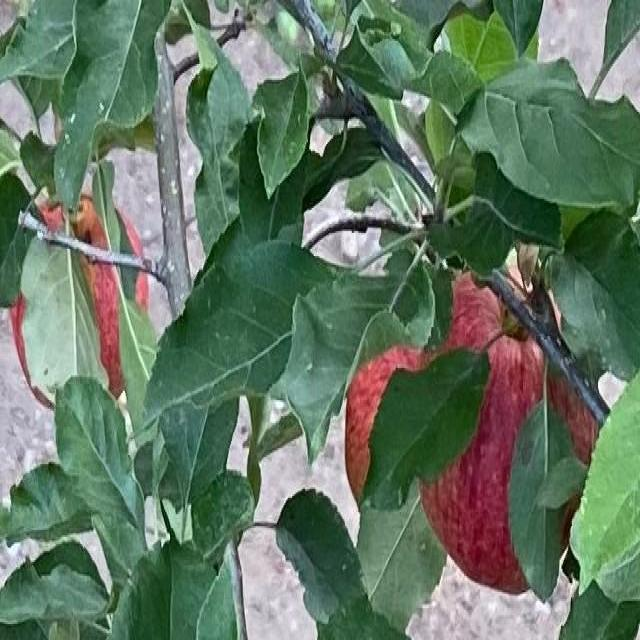Rotten Apple: (420, 266, 598, 596), (12, 197, 149, 407), (344, 345, 422, 508)
